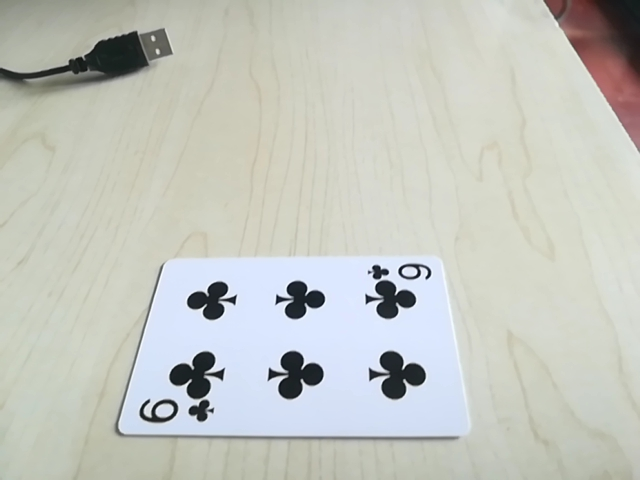mh 6: (133, 395, 215, 429), (370, 258, 435, 286)
